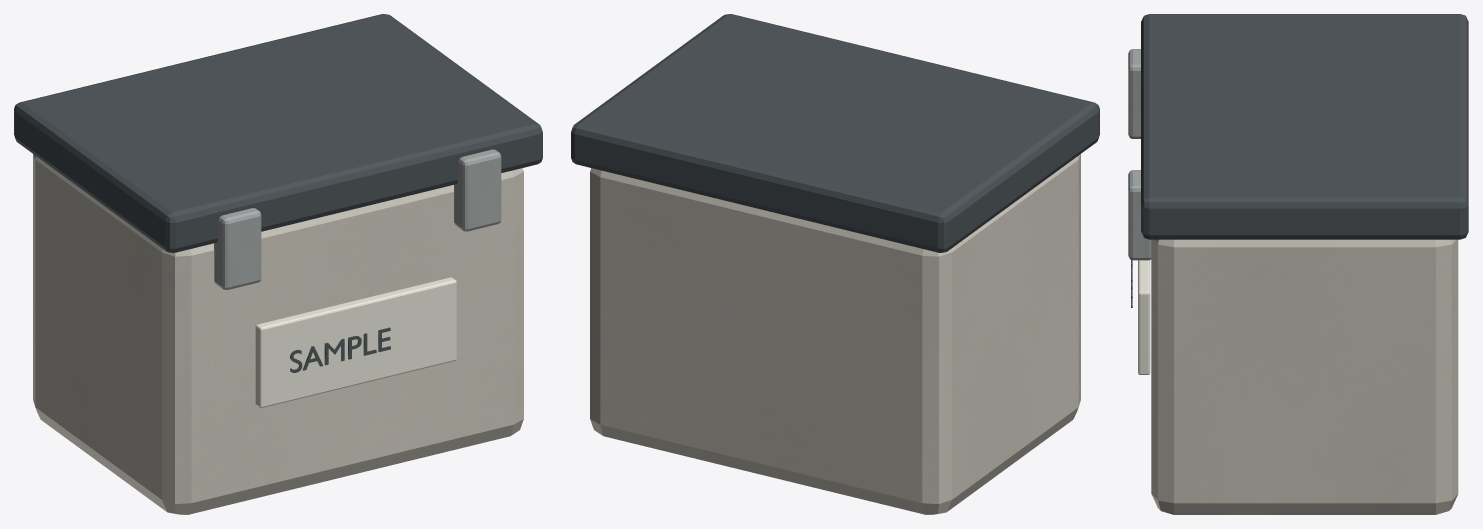
The model's file is laboratory_sample_container.glb.
3 views of the same model, side by side, from view 1: azimuth 30°, elevation 25°; view 2: azimuth 150°, elevation 25°; view 3: azimuth 270°, elevation 25° (orthographic). The views are drawn at different scales.
Parts seen in each view (by area): view 1: Body, Lid.001, LabelField, Latch.005, Latch.004, LABEL_SAMPLE; view 2: Body, Lid.001; view 3: Body, Lid.001, LabelField, Latch.005, Latch.004.
Part boxes in pixels (<box>): Body: <box>33,154,523,514</box>; Lid.001: <box>14,14,542,252</box>; LabelField: <box>255,277,456,407</box>; Latch.005: <box>454,149,501,231</box>; Latch.004: <box>214,208,261,289</box>; LABEL_SAMPLE: <box>290,327,390,372</box>; Body: <box>590,154,1080,514</box>; Lid.001: <box>571,14,1099,252</box>; Body: <box>1151,239,1458,514</box>; Lid.001: <box>1141,14,1468,239</box>; LabelField: <box>1138,260,1150,374</box>; Latch.005: <box>1128,170,1151,260</box>; Latch.004: <box>1128,49,1140,138</box>.
Size of the model in its own units: 0.44 by 0.3525 by 0.3325.
4 materials, 2 textured.
